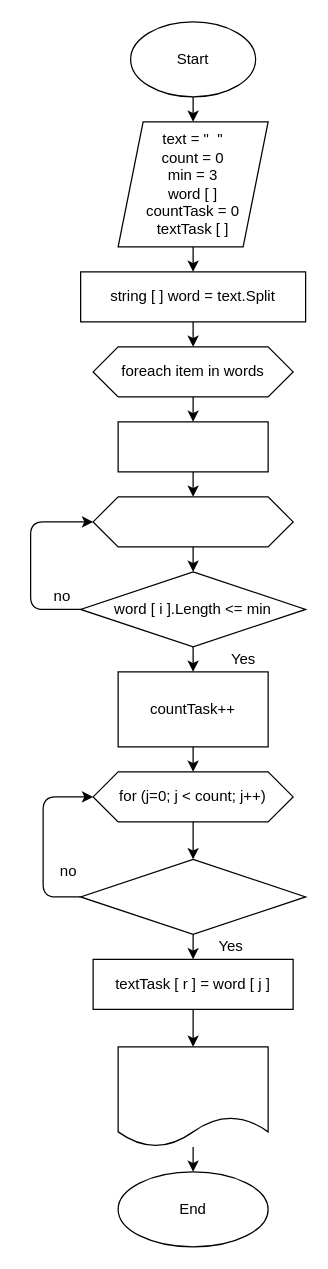
This 328x1269 diagram has some shape labels left out. The shapes that lost their labels are listed below. From the top down, each one's box as (x1, y1, x2, y2) in pixels, then its label:
(117, 421, 268, 472): count ++
(92, 496, 293, 547): for (i=0; i < count; i++)
(79, 858, 306, 934): word [ j ].Length <= min
(117, 1046, 268, 1147): print ( textTask )
